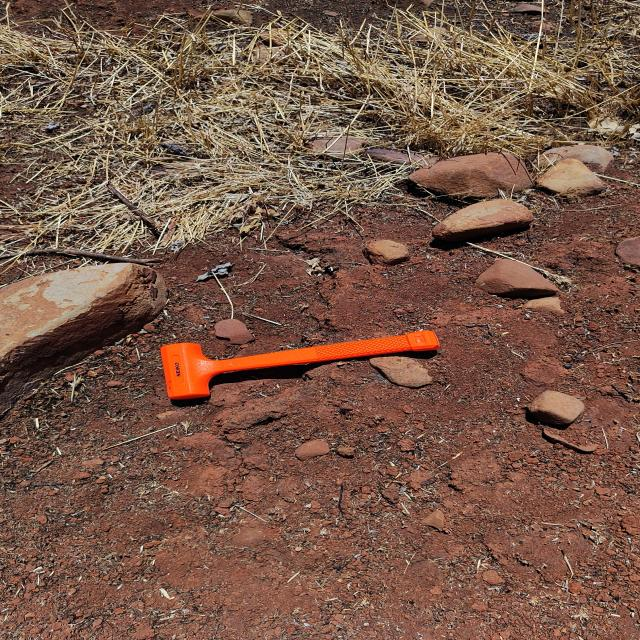Orange_hammer: (159, 329, 440, 401)
